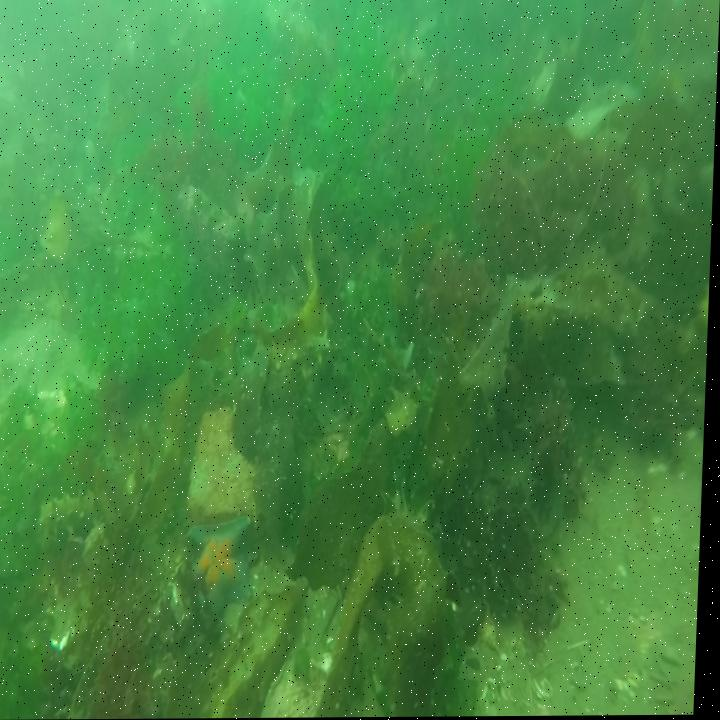starfish: (184, 519, 261, 619)
